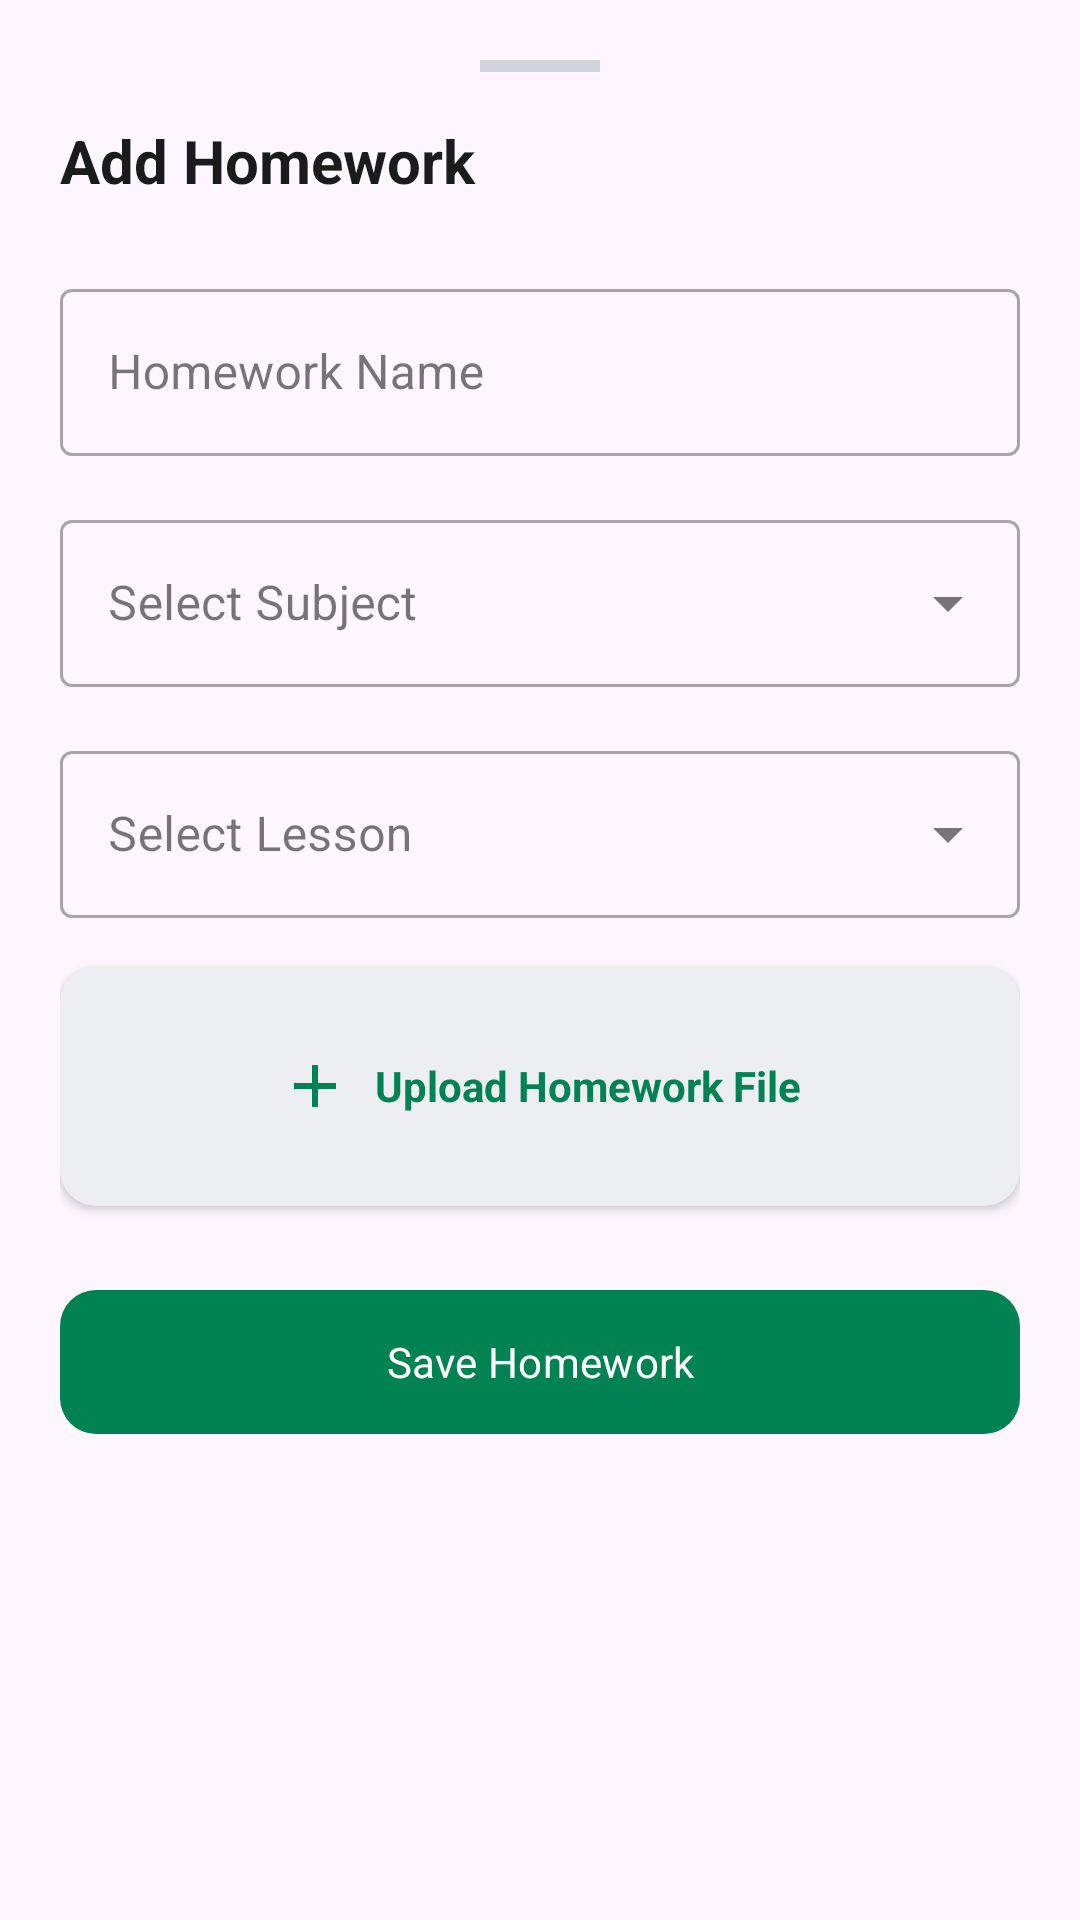

Locate icon controls on the screen. Image size 1080px×1920px, boxes as (x1, y1, x2, y2).
add: (294, 1065, 336, 1107)
